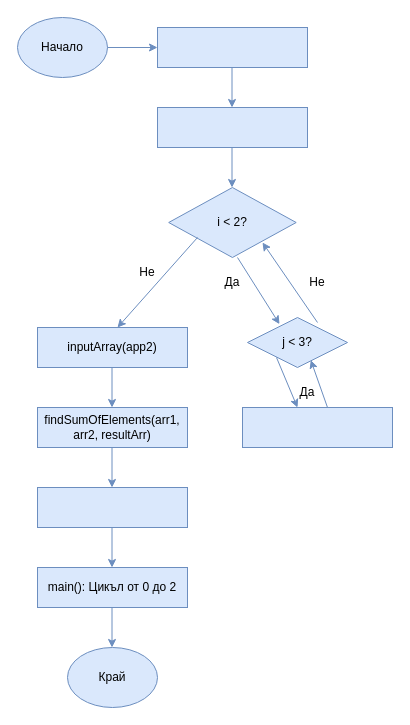
The diagram is 410 pixels wide and 725 high, and some of its shapes have lost their labels. Each missing label, with the centre of its shape:
"inputArray(arr1)" goes at (232,127).
"printArray(resultArr)" goes at (112,507).
"proccessArrays()" goes at (232,47).
"Въвеждаме array[i][j]" goes at (317,427).
